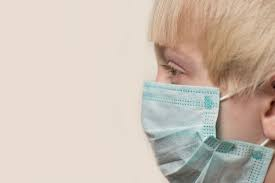with-mask: (134, 3, 275, 182)
